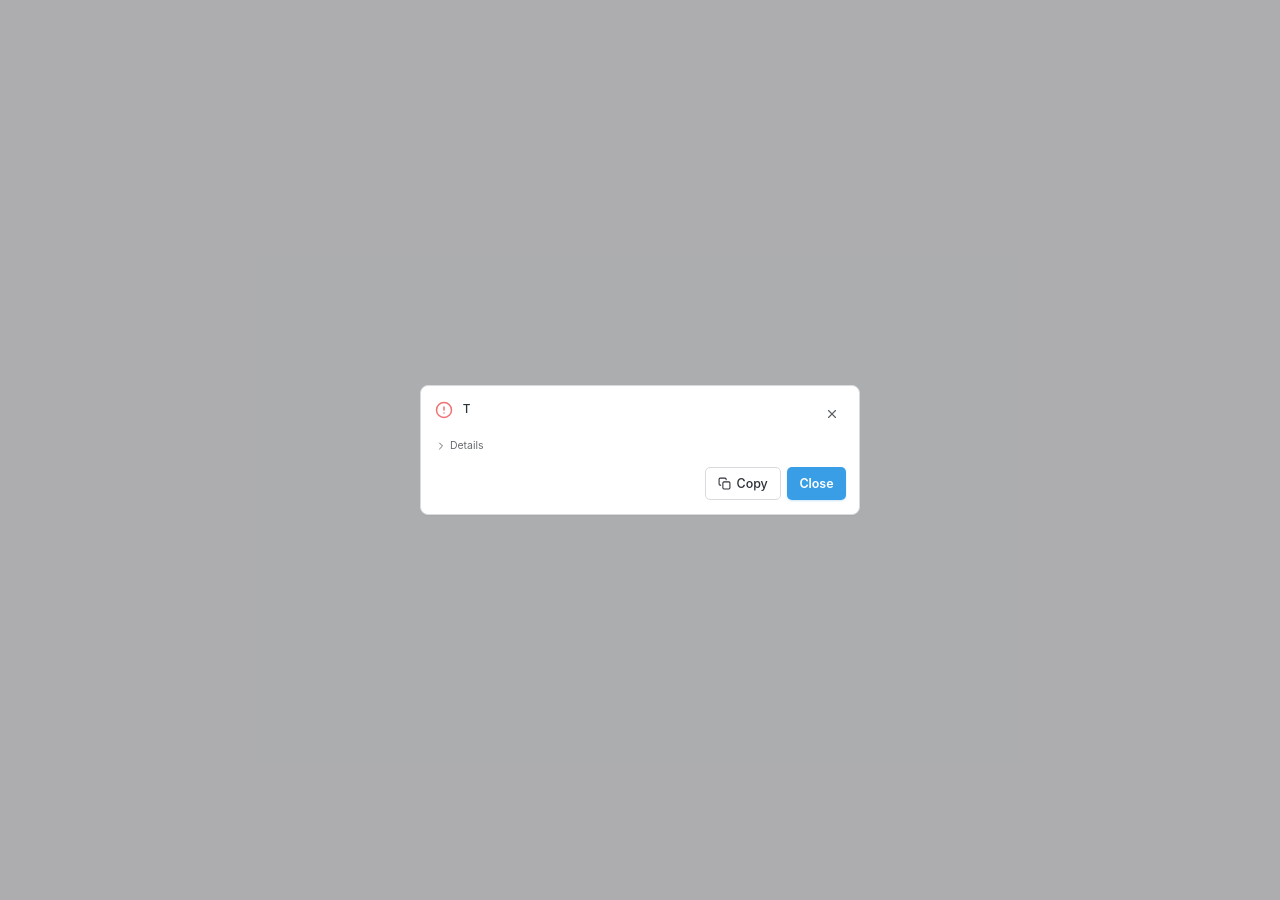
Test: ErrorDialogHost › collapses long multi-line detail behind the details toggle
Click the button with test id "error-dialog-details-toggle" at (459, 446), box [434, 438, 484, 454]
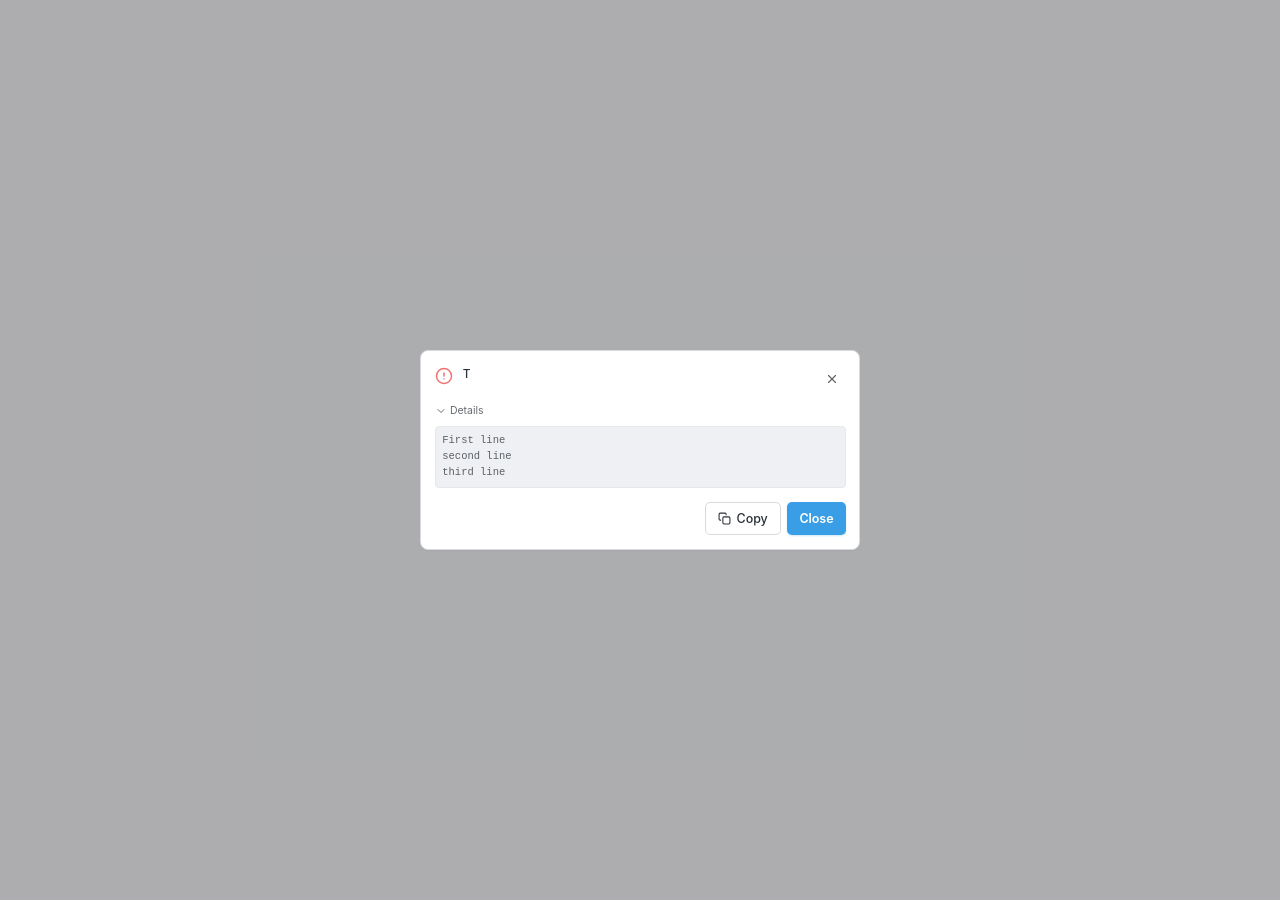
Expected: the text "First line second line third line" is shown, [434, 426, 846, 488]
